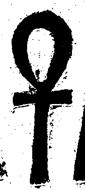Ankh: (4, 6, 78, 189)
